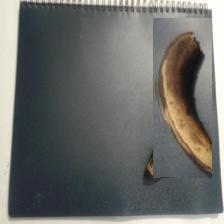Banana Rotten: (153, 19, 212, 179)
